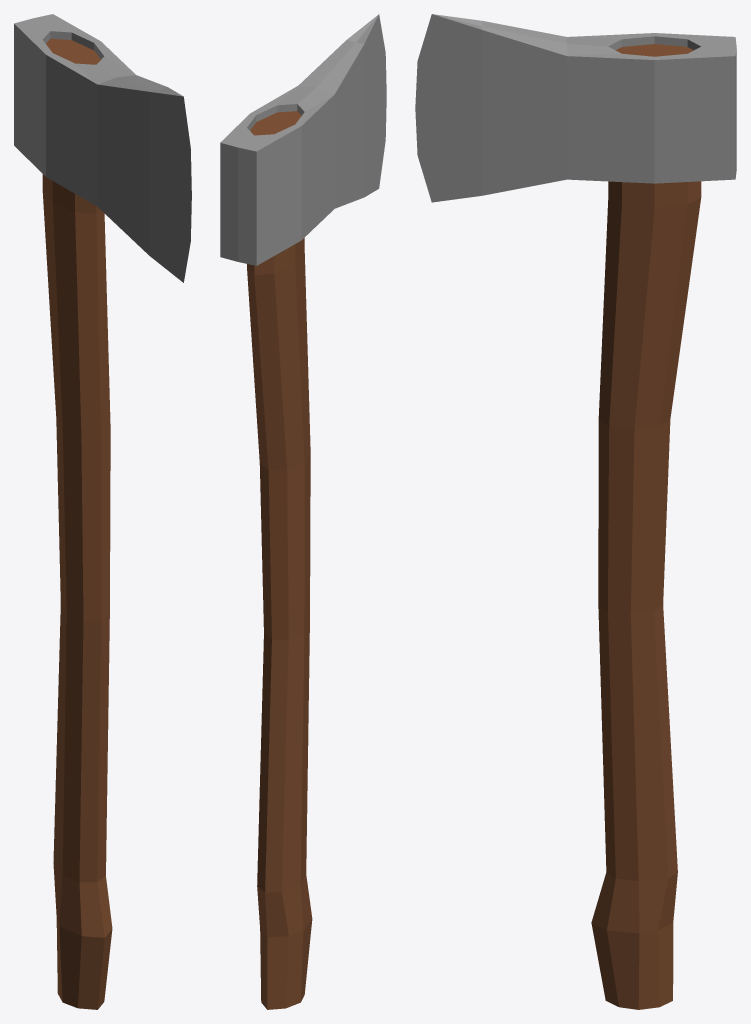
The model's file is axe01.gltf.
3 renders of one model, left to right at view 1: azimuth 30°, elevation 25°; view 2: azimuth 150°, elevation 25°; view 3: azimuth 270°, elevation 25°, orthographic. The views are drawn at different scales.
Parts seen in each view (by area): view 1: Cylinder; view 2: Cylinder; view 3: Cylinder.
Part boxes in pixels (x1,y1,x2,y2): Cylinder: (14, 14, 191, 1009); Cylinder: (220, 14, 386, 1009); Cylinder: (415, 14, 736, 1009).
Size of the model in its own units: 0.0338 by 0.5741 by 0.1694.
1 material, 1 textured.
